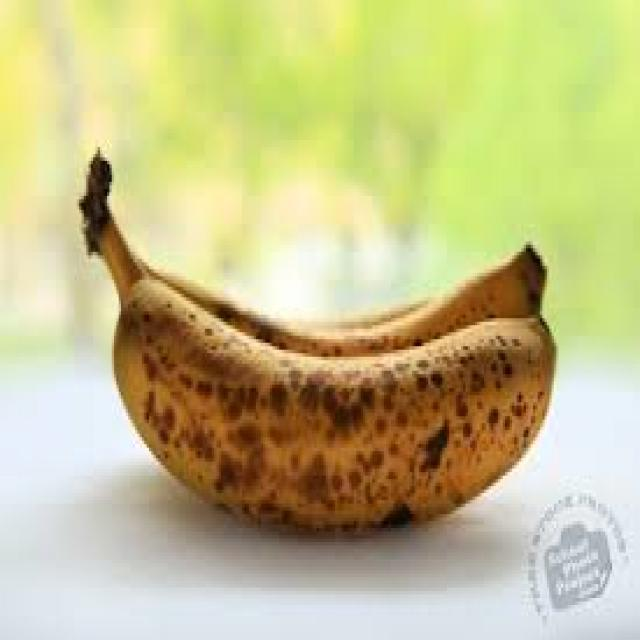organic waste: (76, 150, 552, 532), (100, 217, 545, 353)
